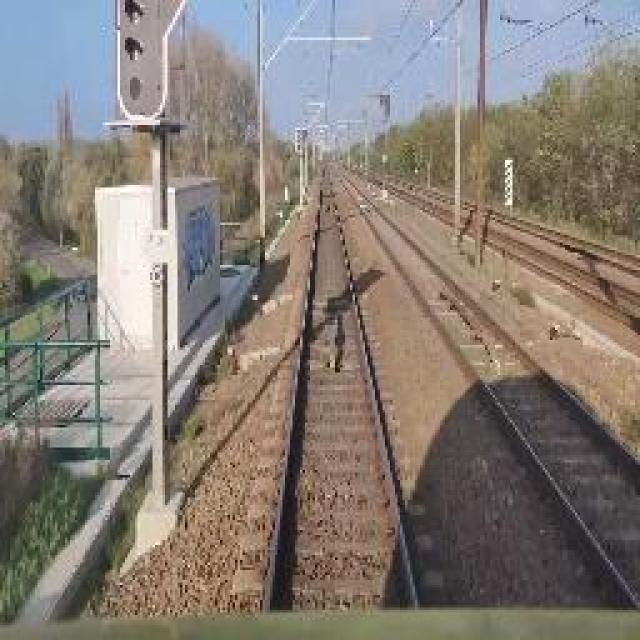rail: (238, 168, 450, 614)
